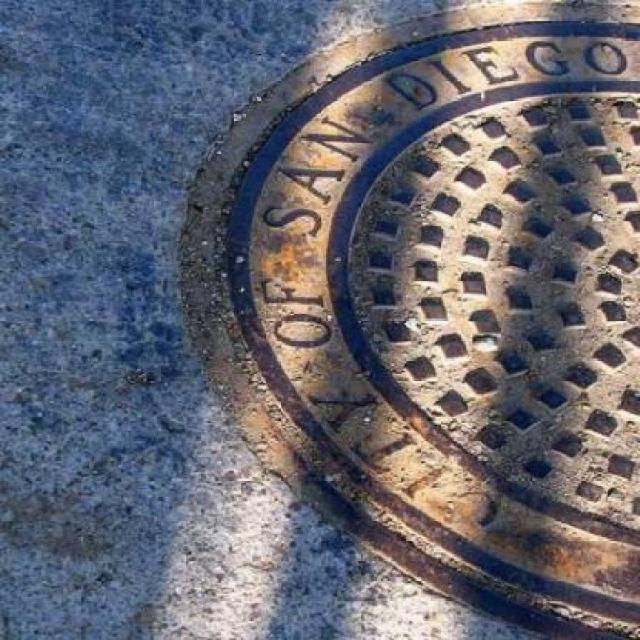Manhole: (184, 2, 638, 638)
